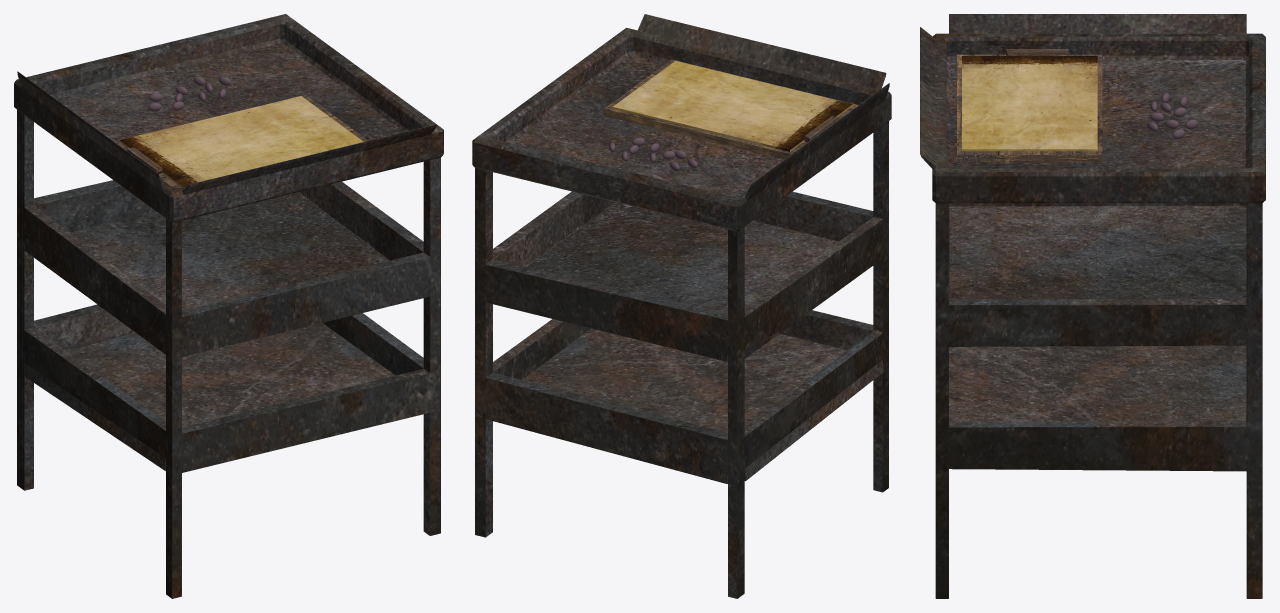
Rendered from EscrivaninhaCientista.fbx.
3 views of the same model, side by side, from view 1: azimuth 30°, elevation 25°; view 2: azimuth 150°, elevation 25°; view 3: azimuth 270°, elevation 25° (orthographic). The views are drawn at different scales.
Visible parts, largest first — view 1: pCube2, pCube3; view 2: pCube2, pCube3; view 3: pCube2, pCube3.
Part boxes in pixels (x1=…): pCube2: x1=14, y1=14, x2=443, y2=598; pCube3: x1=114, y1=94, x2=368, y2=188; pCube2: x1=472, y1=14, x2=891, y2=598; pCube3: x1=604, y1=59, x2=858, y2=159; pCube2: x1=920, y1=14, x2=1265, y2=598; pCube3: x1=957, y1=49, x2=1102, y2=162.
Size of the model in its own units: 0.5827 by 0.8417 by 0.5948.
